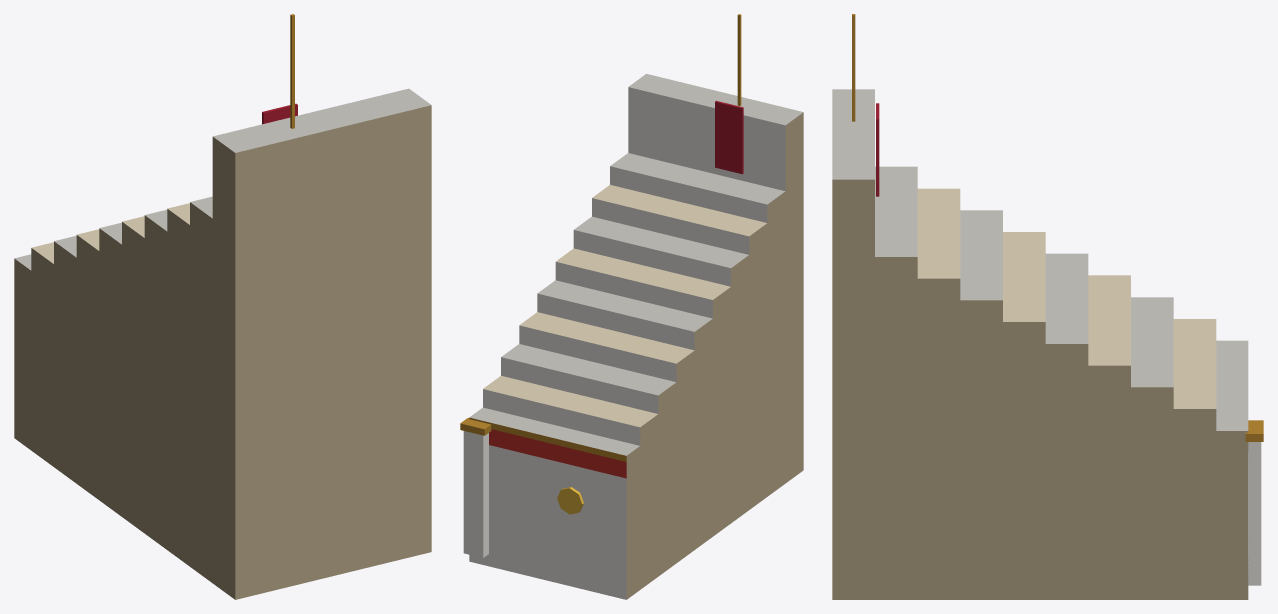
The model's file is SM_GrandStand_4m.fbx.
The picture shows the model from 3 angles, left to right: view 1: azimuth 30°, elevation 25°; view 2: azimuth 150°, elevation 25°; view 3: azimuth 270°, elevation 25°; orthographic projection. The views are drawn at different scales.
Visible parts, largest first — view 1: SM_GrandStand_4m; view 2: SM_GrandStand_4m; view 3: SM_GrandStand_4m.
Part boxes in pixels (bbox=[...]): SM_GrandStand_4m: bbox=[14, 14, 431, 599]; SM_GrandStand_4m: bbox=[460, 14, 803, 599]; SM_GrandStand_4m: bbox=[832, 14, 1263, 599].
Bounding box in the file's own units: 4.06 × 8.09 × 10.9.
